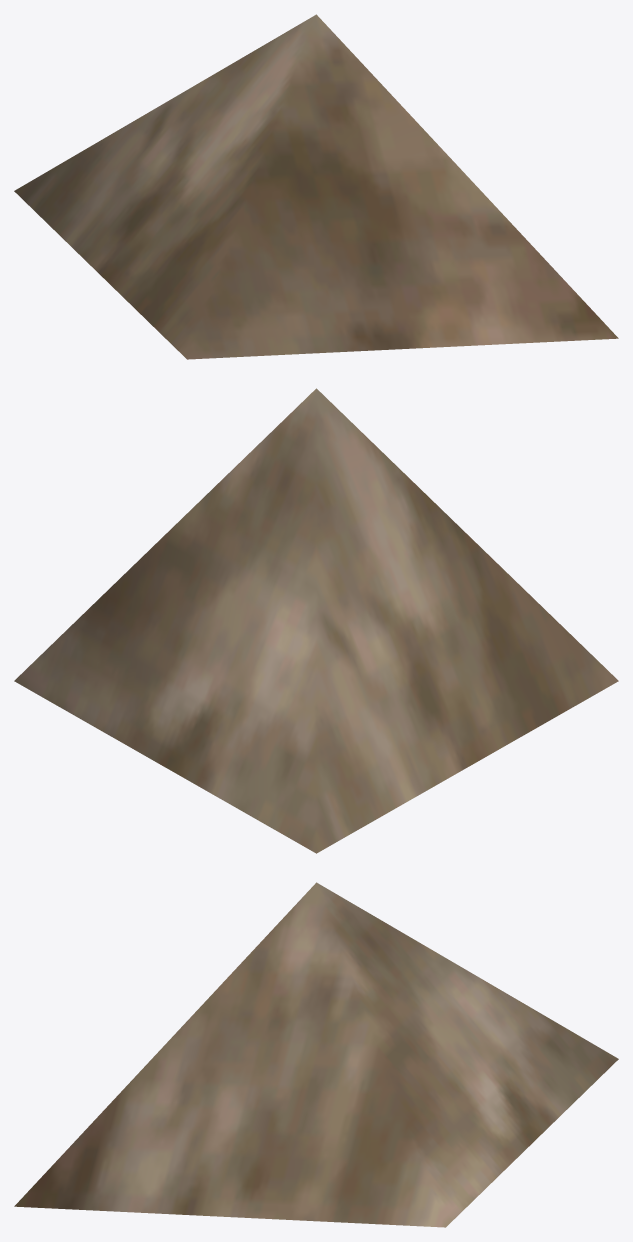
Rendered from OVERHILL_A_01_PLANE19.fbx.
3 renders of one model, top to bottom at view 1: azimuth 30°, elevation 25°; view 2: azimuth 150°, elevation 25°; view 3: azimuth 270°, elevation 25°, orthographic. The views are drawn at different scales.
Parts seen in each view (by area): view 1: OVERHILL_A_01_PLANE19; view 2: OVERHILL_A_01_PLANE19; view 3: OVERHILL_A_01_PLANE19.
Part boxes in pixels (x1,y1,x2,y2): OVERHILL_A_01_PLANE19: [14, 14, 618, 359]; OVERHILL_A_01_PLANE19: [14, 388, 618, 853]; OVERHILL_A_01_PLANE19: [14, 882, 618, 1227].
Size of the model in its own units: 1021 by 630 by 1379.
1 material, 1 textured.
